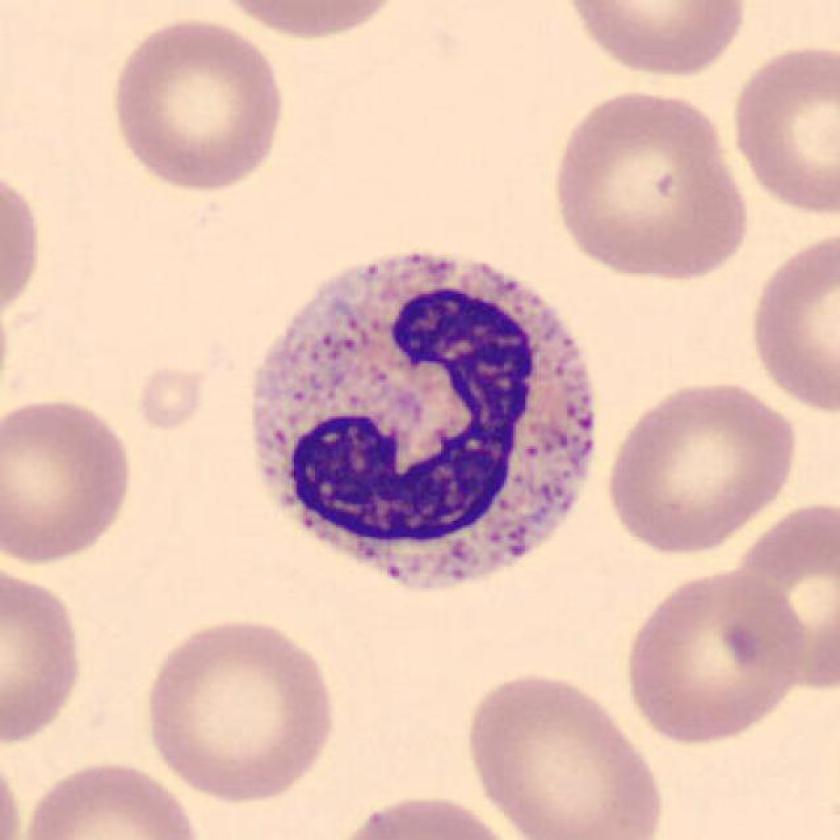neutrophil: (255, 255, 595, 591)
